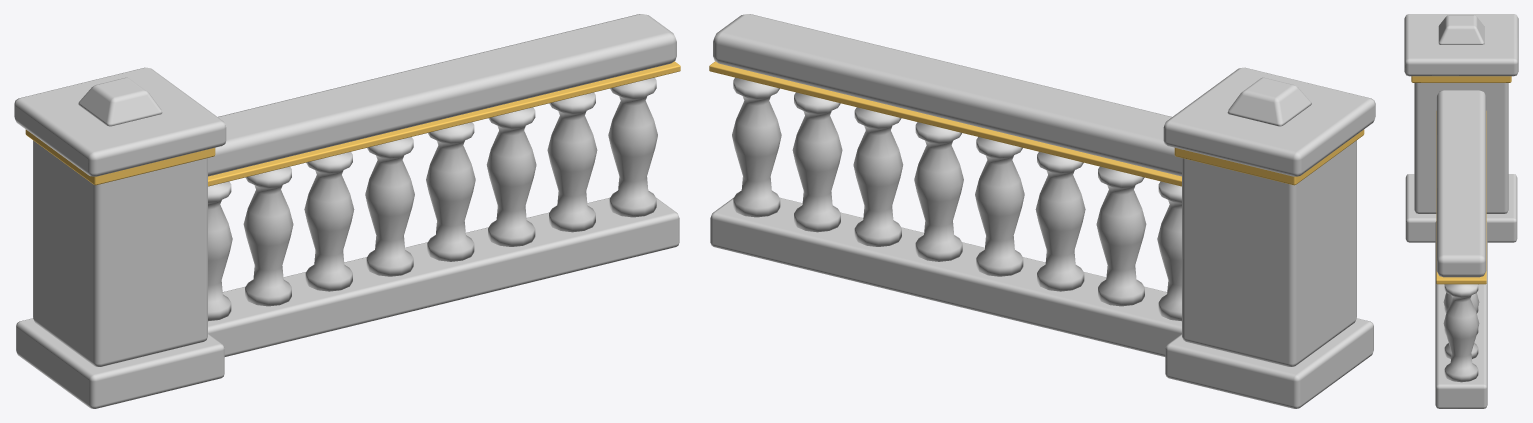
Rendered from Lobby_PROP_BalustradeStraight.fbx.
The picture shows the model from 3 angles, left to right: view 1: azimuth 30°, elevation 25°; view 2: azimuth 150°, elevation 25°; view 3: azimuth 270°, elevation 25°; orthographic projection. The views are drawn at different scales.
Visible parts, largest first — view 1: Lobby_PROP_BalustradeStraight__Marble, Lobby_PROP_BalustradeStraight__Gold; view 2: Lobby_PROP_BalustradeStraight__Marble, Lobby_PROP_BalustradeStraight__Gold; view 3: Lobby_PROP_BalustradeStraight__Marble, Lobby_PROP_BalustradeStraight__Gold.
Boxes of the visible parts, x1,y1,x2,y2 form: Lobby_PROP_BalustradeStraight__Marble: (14, 14, 679, 408); Lobby_PROP_BalustradeStraight__Gold: (25, 61, 680, 186); Lobby_PROP_BalustradeStraight__Marble: (710, 14, 1375, 408); Lobby_PROP_BalustradeStraight__Gold: (709, 61, 1364, 186); Lobby_PROP_BalustradeStraight__Marble: (1404, 14, 1518, 408); Lobby_PROP_BalustradeStraight__Gold: (1411, 76, 1511, 284).
Bounding box in the file's own units: 10.2 × 4.45 × 2.3.
